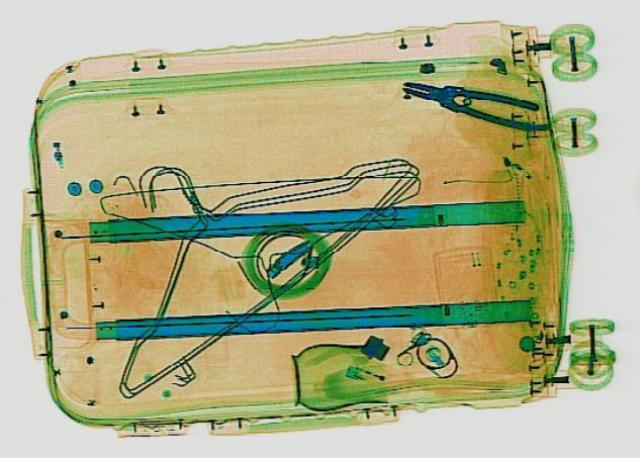Pliers: (395, 70, 557, 133)
